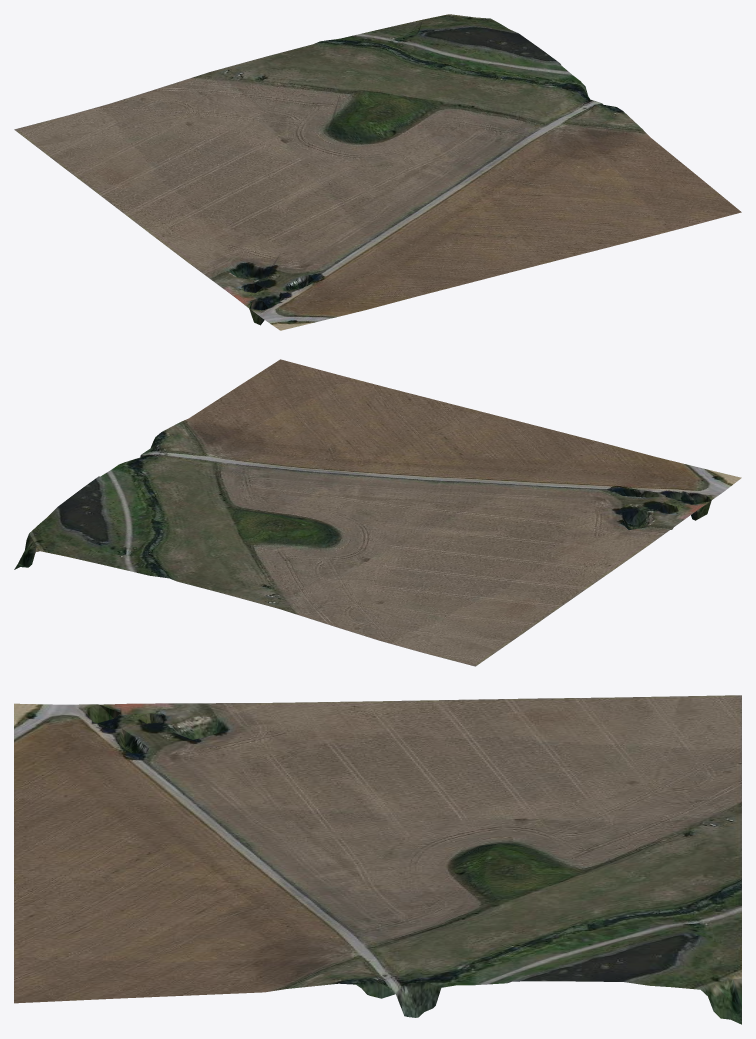
Rendered from map_13_2042_3445.dae.
The picture shows the model from 3 angles, top to bottom: view 1: azimuth 30°, elevation 25°; view 2: azimuth 150°, elevation 25°; view 3: azimuth 270°, elevation 25°; orthographic projection. The views are drawn at different scales.
Visible parts, largest first — view 1: Ter0; view 2: Ter0; view 3: Ter0.
Boxes of the visible parts, left/top/right/bottom form: Ter0: left=14, top=14, right=741, bottom=330; Ter0: left=14, top=359, right=741, bottom=666; Ter0: left=14, top=695, right=741, bottom=1024.
Bounding box in the file's own units: 256 × 256 × 23.1.
3 materials, 3 textured.
